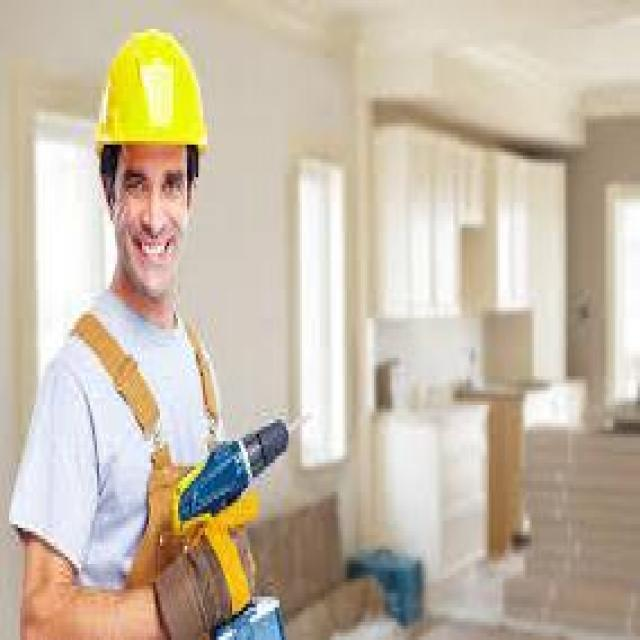safety_helmet: (88, 21, 212, 166)
